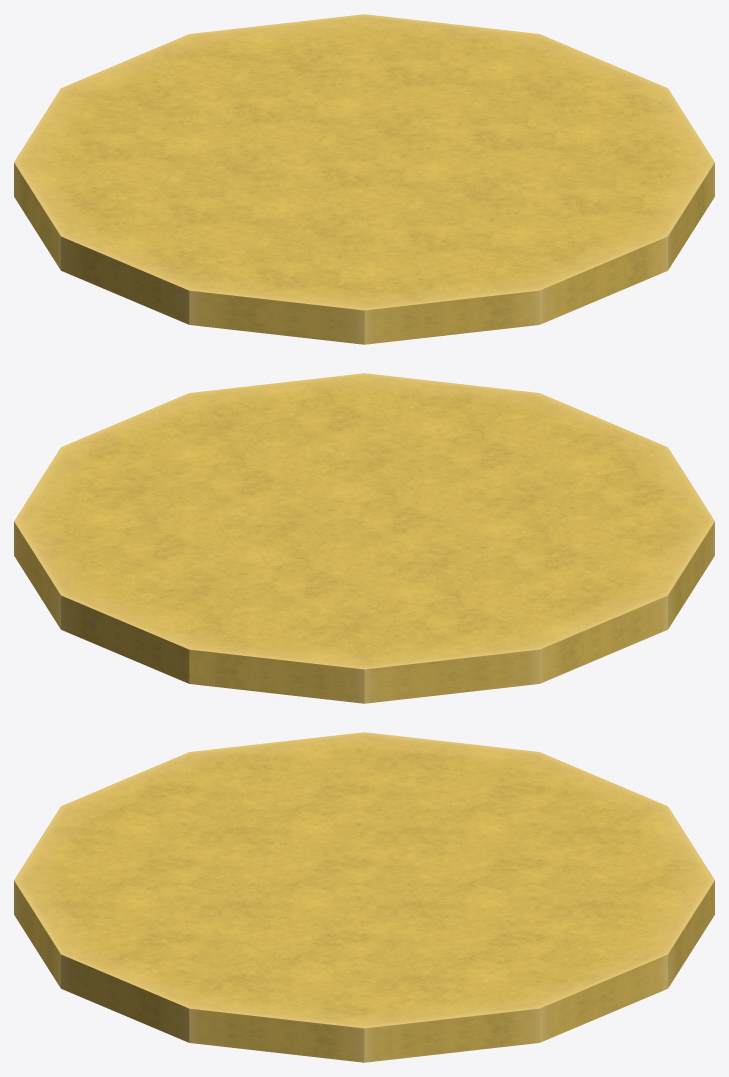
File: Coin.fbx
The picture shows the model from 3 angles, top to bottom: view 1: azimuth 30°, elevation 25°; view 2: azimuth 150°, elevation 25°; view 3: azimuth 270°, elevation 25°; orthographic projection.
Visible parts, largest first — view 1: Coin; view 2: Coin; view 3: Coin.
Part boxes in pixels (left/top/right/bottom): Coin: left=14, top=14, right=714, bottom=344; Coin: left=14, top=373, right=714, bottom=703; Coin: left=14, top=732, right=714, bottom=1062.
Bounding box in the file's own units: 200 × 10.8 × 200.
Materials: 1 (1 with a texture image).
